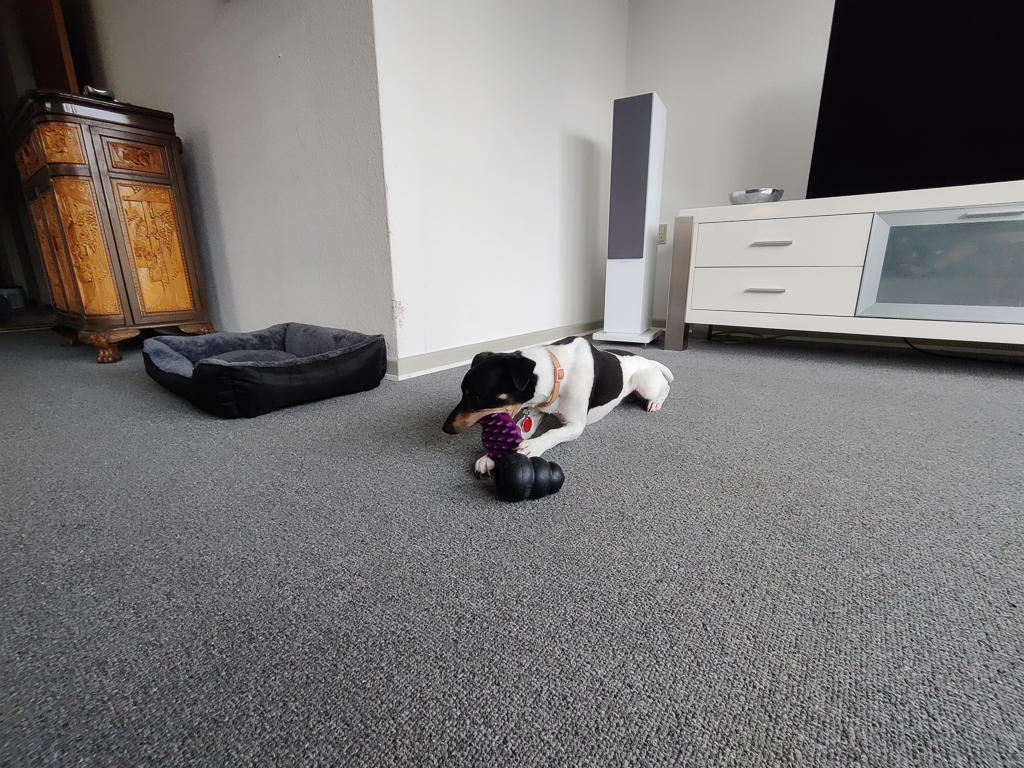Dog: (432, 330, 677, 485)
